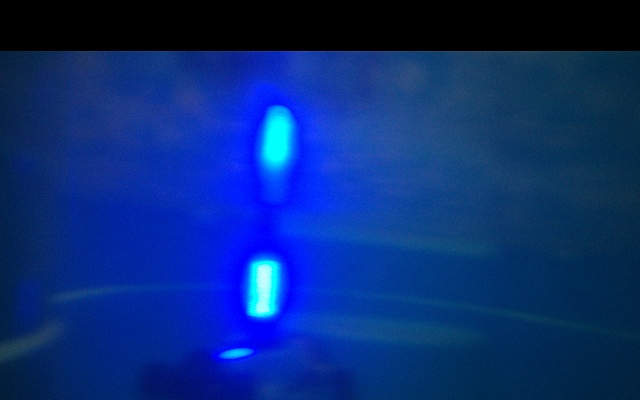blue: (250, 258, 275, 327)
